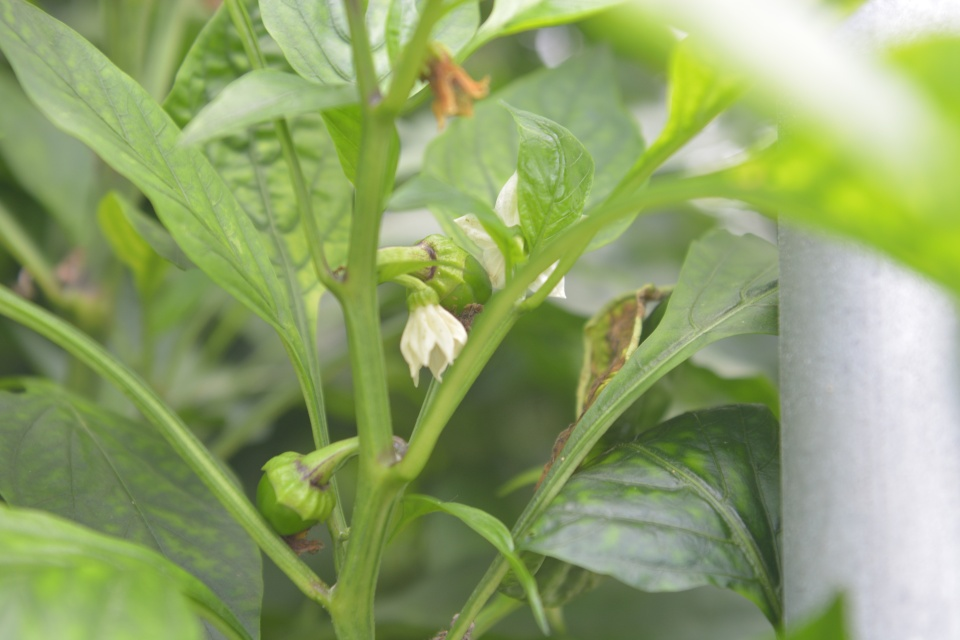flower: (452, 171, 592, 304), (397, 300, 470, 390)
immature: (252, 448, 338, 540), (405, 232, 497, 317)
